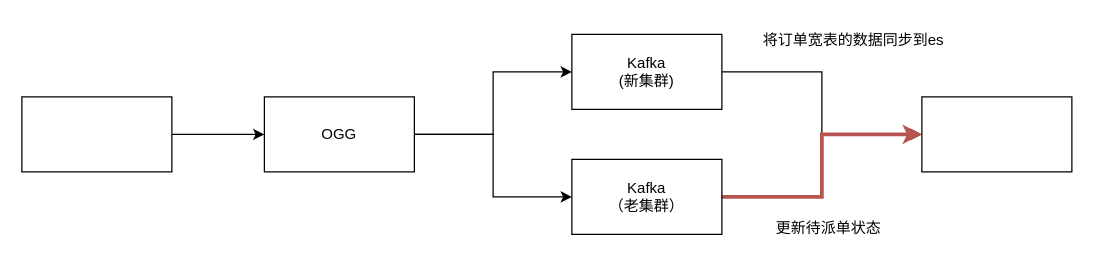
Image size: 1094x268. Some labels were removed from this diagram. The centre of each missing label's shape, as x and y in pixels:
"datasync" goes at pixel 996 134.
"表数据变更" goes at pixel 96 134.
